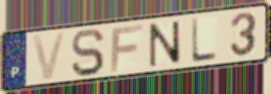3: (228, 11, 258, 59)
F: (109, 22, 145, 74)
L: (189, 16, 219, 65)
N: (147, 20, 183, 69)
S: (69, 27, 106, 78)
V: (30, 30, 68, 83)
